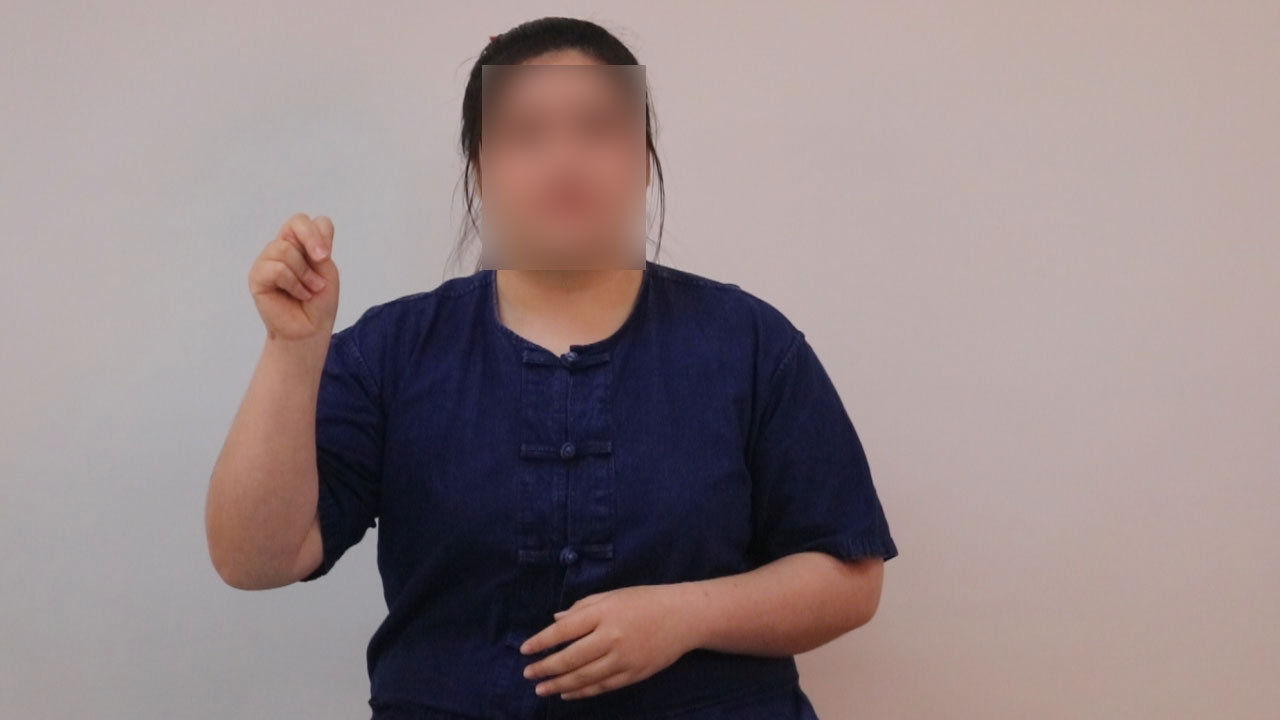nor: (240, 202, 359, 347)
